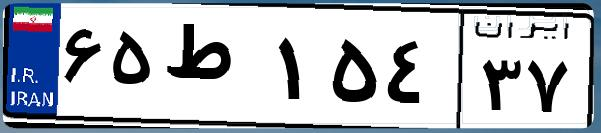1: (270, 28, 330, 110)
3: (475, 38, 525, 113)
4: (385, 28, 445, 110)
5: (330, 28, 385, 110), (110, 28, 158, 98)
6: (57, 26, 110, 100)
7: (525, 38, 570, 115)
ط: (158, 20, 270, 120)
